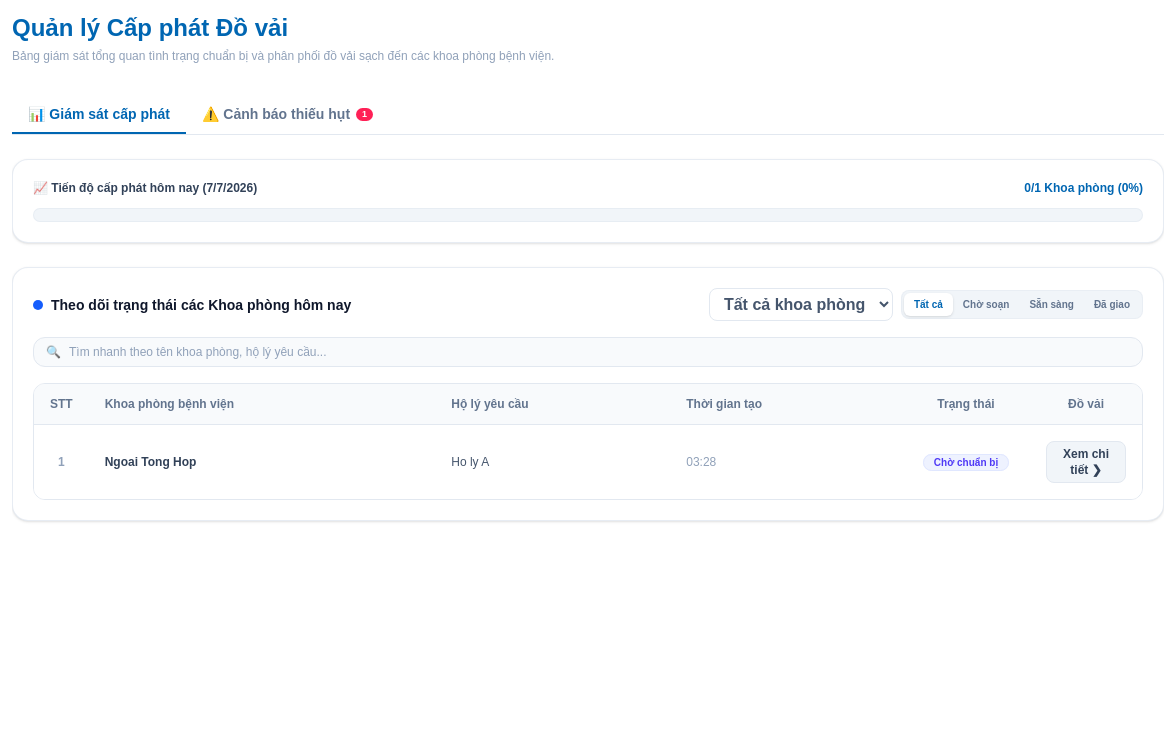
Test: Admin Dispatch Monitor UI Page › renders the supervisor dashboard tabs and can expand ticket details
expect the button "📊 Giám sát cấp phát" is shown: met, box [12,96,186,134]
expect the button "⚠️ Cảnh báo thiếu hụt 1" is shown: met, box [186,96,389,134]
// Toggle expand button
Click the button "Xem chi tiết ❯" at (1086, 462), box [1046,441,1126,483]
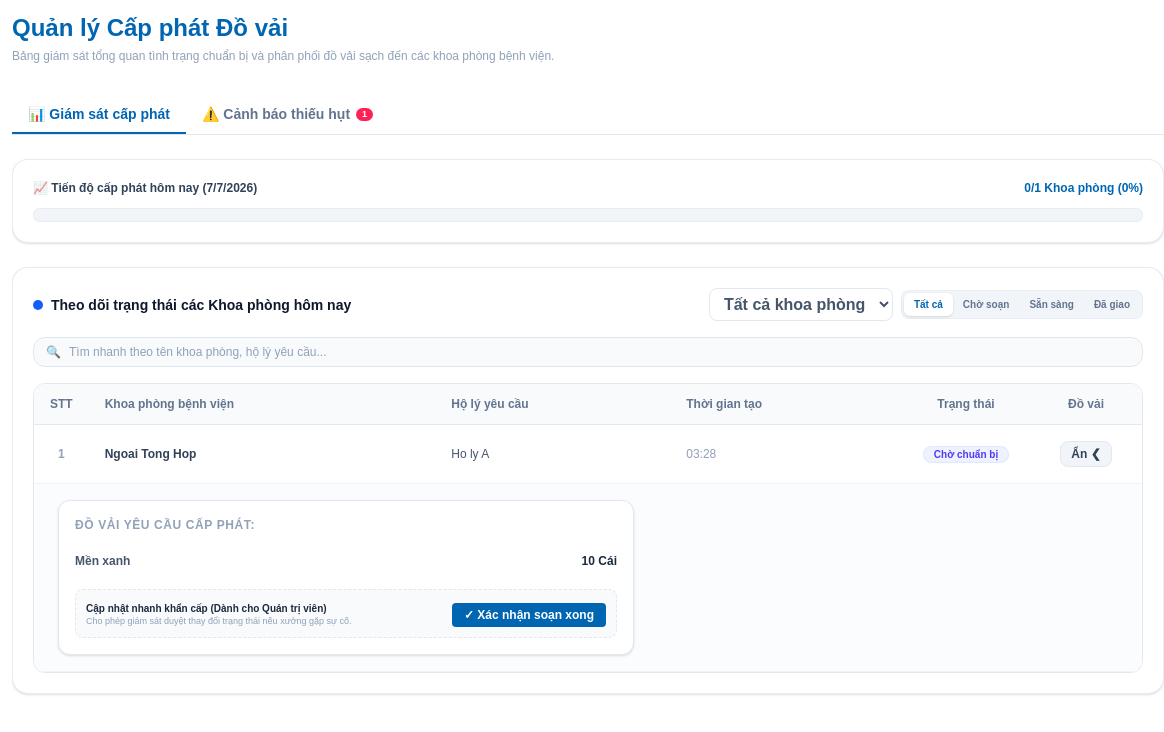
expect the heading "Đồ vải yêu cầu cấp phát:" is shown: met, box [75,518,255,532]
expect the text "Mền xanh" is shown: met, box [75,553,130,569]
expect the text "10 Cái" is shown: met, box [582,553,617,569]
